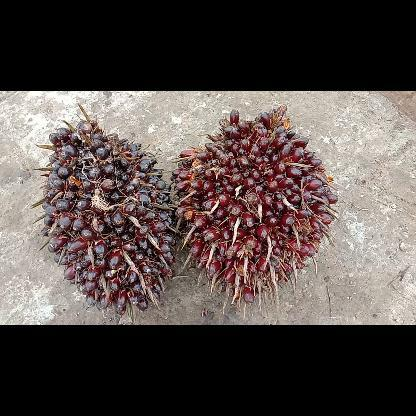Kurang masak: (34, 106, 174, 312)
TBS masak: (170, 106, 336, 304)
